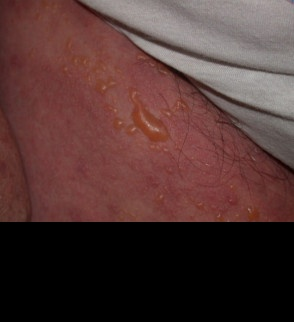SJS-TEN: (0, 0, 294, 223)
